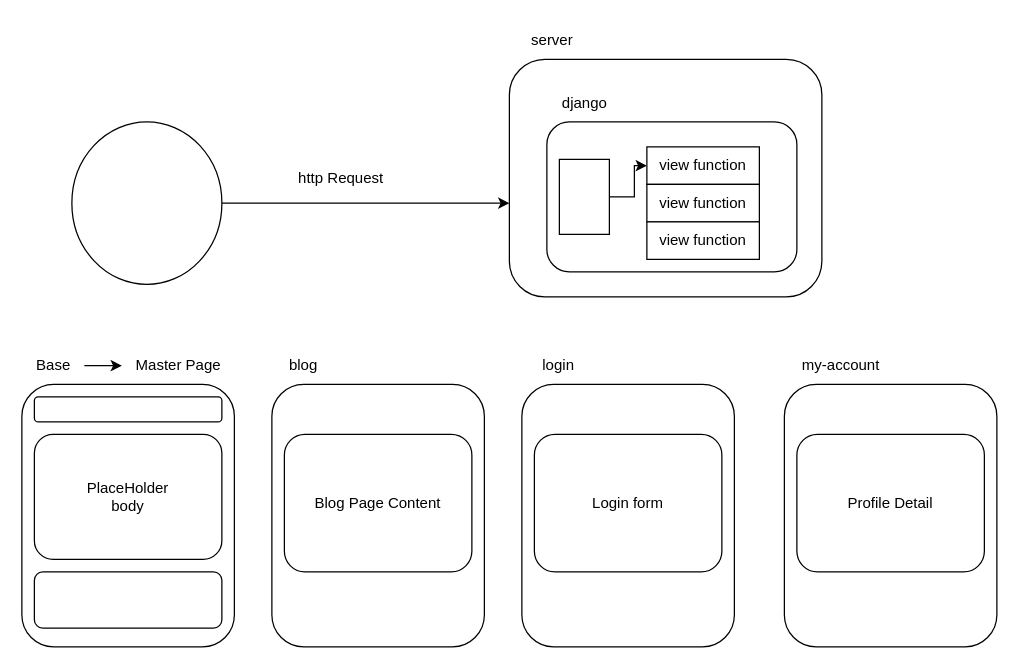
The diagram is 1019 pixels wide and 669 high, and some of its shapes have lost their labels. The shapes that lost their labels are listed below. From the top down, each one's centre as x and y in pixels, then its label:
At [146,202]: "client".
At [583,196]: "urls".
At [127,409]: "header".
At [127,599]: "Footer".
